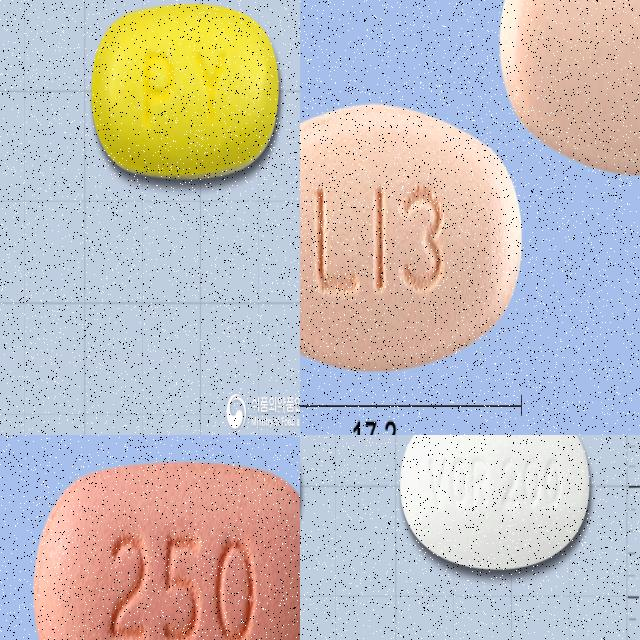Levoable: (300, 103, 522, 370), (498, 0, 640, 173)
Pilocin Tab: (92, 7, 280, 180)
Rpclari Tab: (32, 464, 300, 640)
Viramid Cap: (400, 435, 591, 569)
